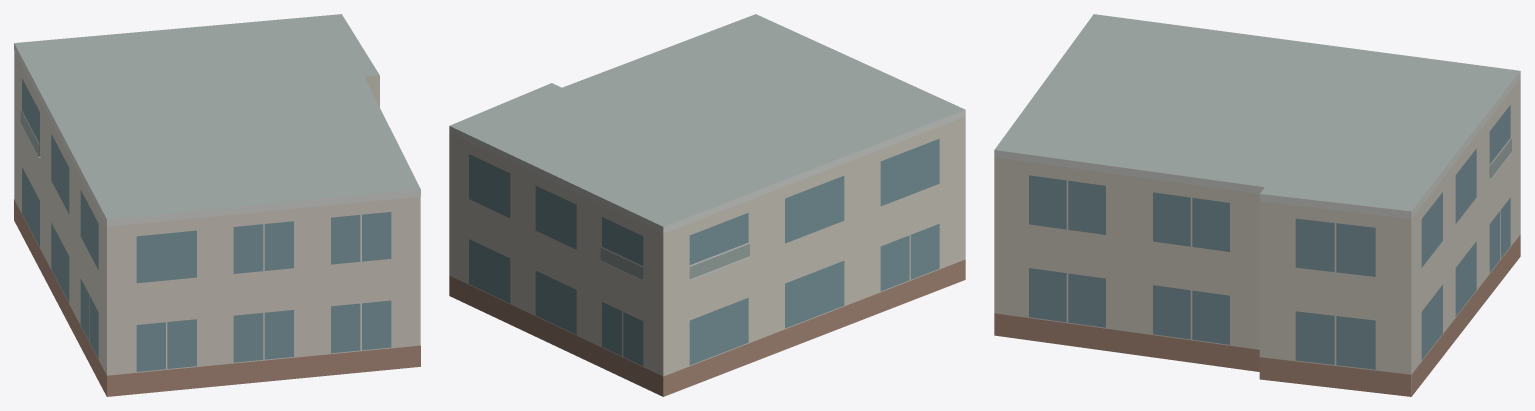
File: survey-upis-33041088.glb
The picture shows the model from 3 angles, left to right: view 1: azimuth 30°, elevation 25°; view 2: azimuth 150°, elevation 25°; view 3: azimuth 270°, elevation 25°; orthographic projection. The views are drawn at different scales.
Visible parts, largest first — view 1: survey-upis-33041088.tmp; view 2: survey-upis-33041088.tmp; view 3: survey-upis-33041088.tmp.
Part boxes in pixels (box(x1,y1,x2,y2)): survey-upis-33041088.tmp: box(14, 14, 420, 396); survey-upis-33041088.tmp: box(449, 14, 965, 396); survey-upis-33041088.tmp: box(994, 14, 1520, 396).
Bounding box in the file's own units: 13.93 × 6.1 × 15.7.
